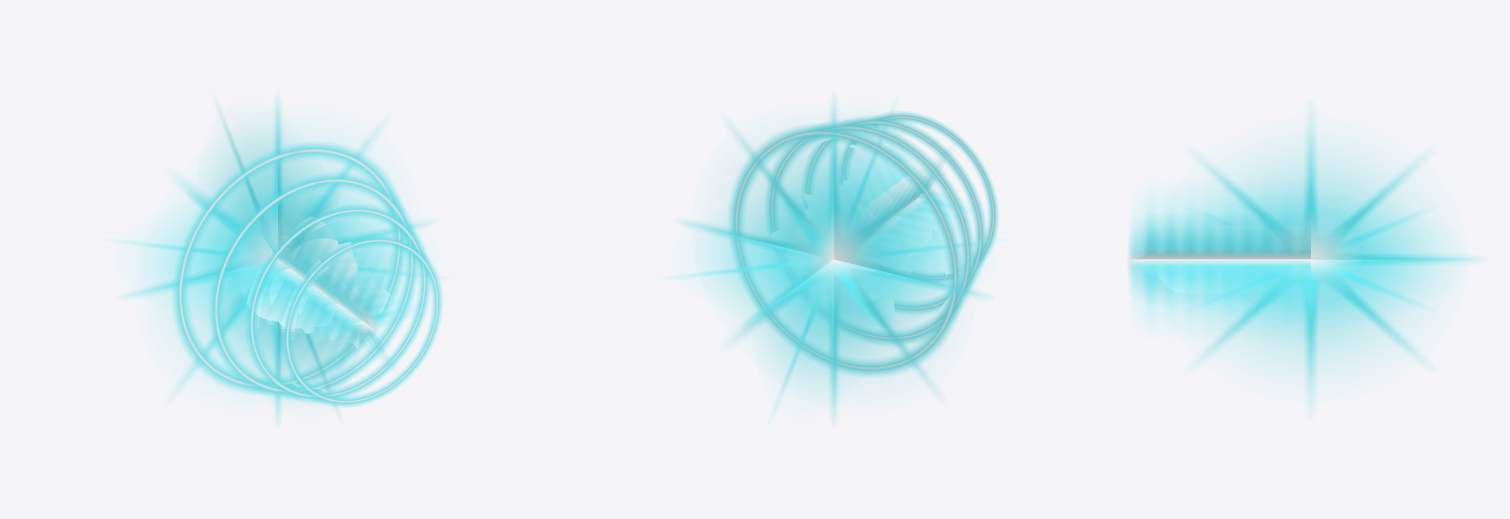
The model's file is fx_kame.glb.
3 views of the same model, side by side, from view 1: azimuth 30°, elevation 25°; view 2: azimuth 150°, elevation 25°; view 3: azimuth 270°, elevation 25° (orthographic). The views are drawn at different scales.
Visible parts, largest first — view 1: fx_orb, fx_ring, fx_beam; view 2: fx_orb, fx_ring, fx_beam; view 3: fx_orb, fx_beam.
Part boxes in pixels (bbox=[...]): fx_orb: bbox=[117, 98, 431, 420]; fx_ring: bbox=[173, 142, 442, 406]; fx_beam: bbox=[228, 211, 417, 377]; fx_orb: bbox=[673, 98, 994, 420]; fx_ring: bbox=[729, 112, 998, 375]; fx_beam: bbox=[855, 146, 970, 266]; fx_orb: bbox=[1190, 115, 1480, 403]; fx_beam: bbox=[1127, 198, 1310, 320].
Size of the model in its own units: 2 by 2 by 2.
3 materials, 3 textured.
